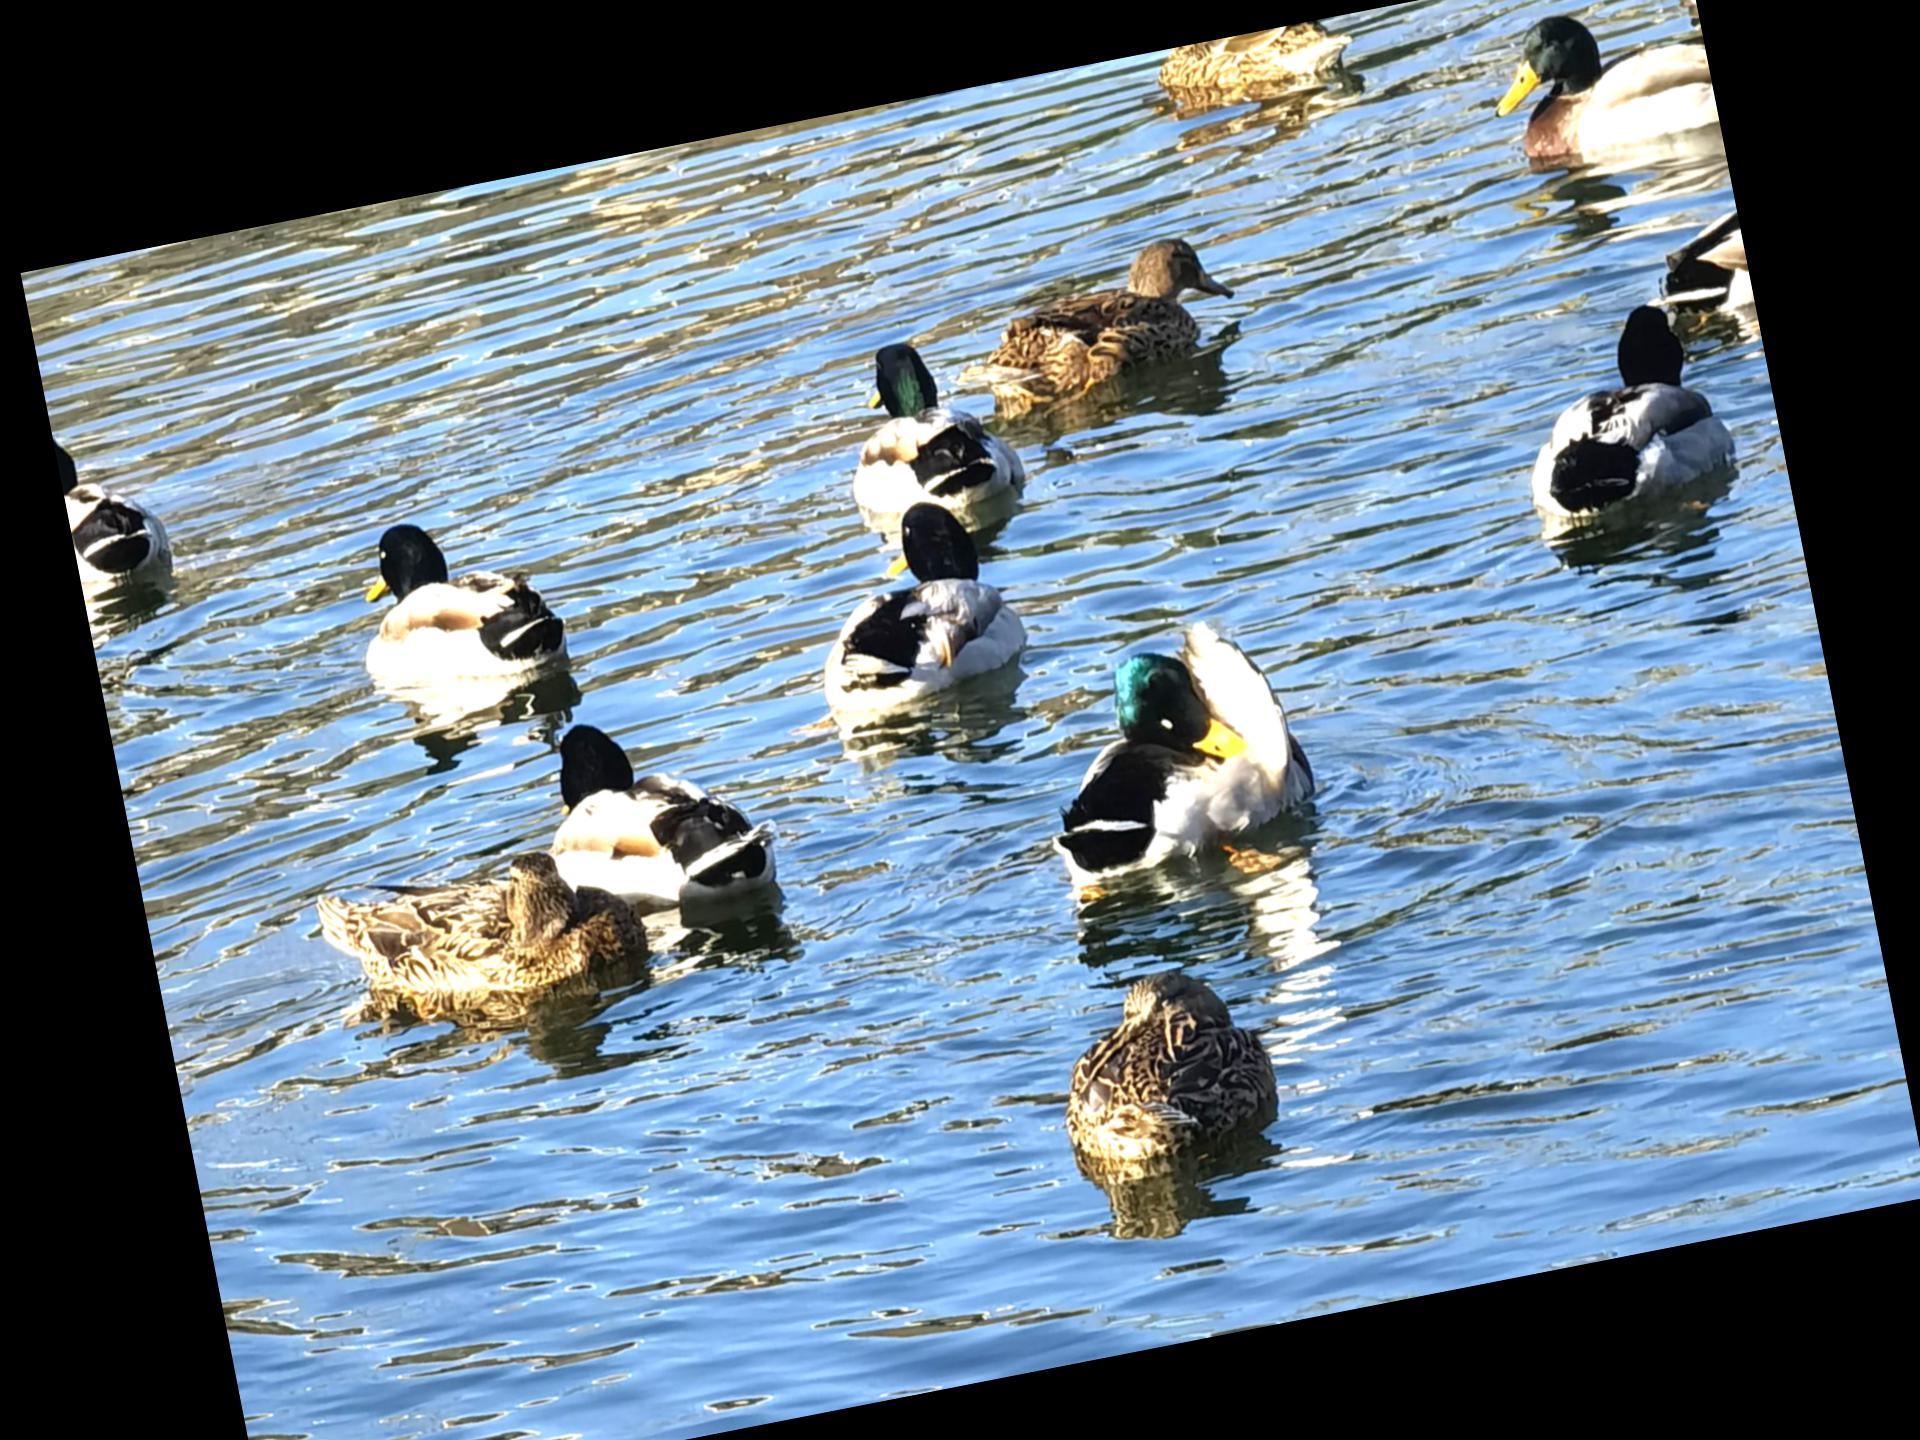duck: (998, 588, 1330, 920), (293, 821, 670, 1050), (1007, 947, 1318, 1198), (1473, 278, 1742, 566), (325, 470, 593, 755), (771, 479, 1045, 753), (502, 687, 789, 945), (794, 309, 1051, 588), (946, 210, 1249, 437), (1448, 0, 1723, 197), (48, 404, 194, 647), (1126, 14, 1358, 138)
